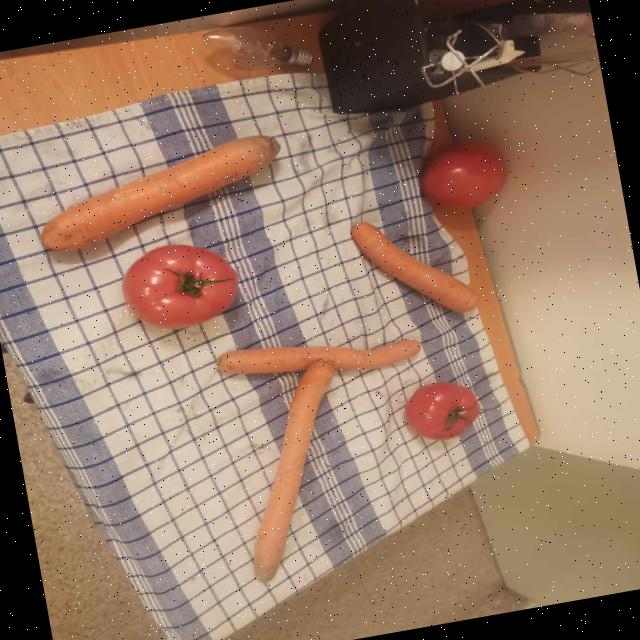carrot: (39, 135, 279, 250), (252, 359, 333, 582), (350, 222, 479, 312), (214, 339, 420, 374)
tomato: (121, 244, 237, 329), (419, 141, 506, 208), (403, 382, 478, 440)
